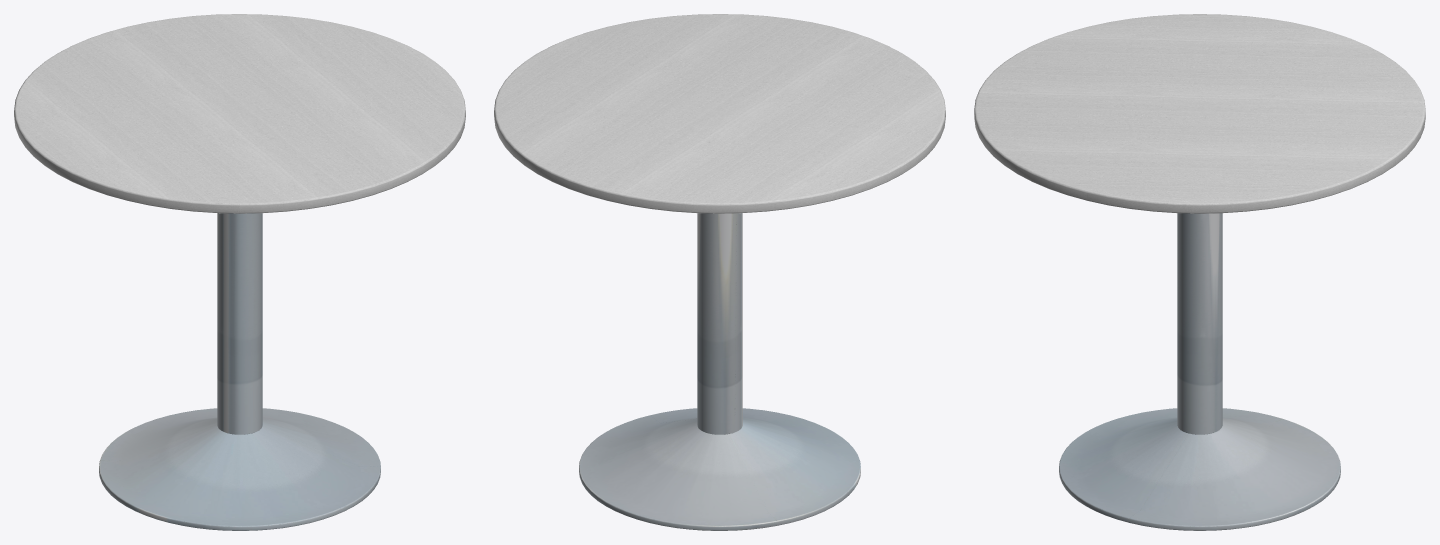
The model's file is fermo_70_chrom_60_white_chrome_plated.glb.
3 views of the same model, side by side, from view 1: azimuth 30°, elevation 25°; view 2: azimuth 150°, elevation 25°; view 3: azimuth 270°, elevation 25° (orthographic).
Parts seen in each view (by area): view 1: fermo_70_chrom_o80-white; view 2: fermo_70_chrom_o80-white; view 3: fermo_70_chrom_o80-white.
Boxes of the visible parts, <box> form: fermo_70_chrom_o80-white: <box>14,14,465,530</box>; fermo_70_chrom_o80-white: <box>494,14,945,530</box>; fermo_70_chrom_o80-white: <box>974,14,1425,530</box>.
Bounding box in the file's own units: 0.8004 × 0.7097 × 0.8004.
Materials: 1 (1 with a texture image).
